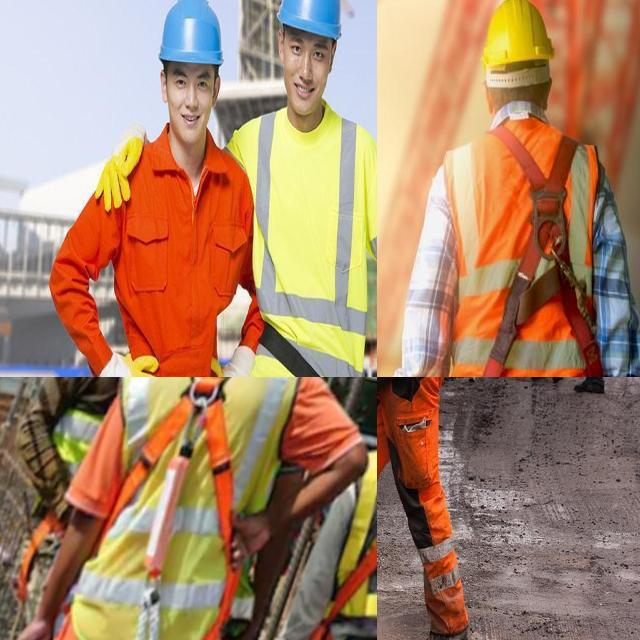Harness: (484, 126, 605, 377), (105, 377, 234, 580)
No_Ear-Protection: (210, 73, 224, 111), (157, 67, 170, 103), (328, 37, 339, 76), (276, 28, 286, 62)
No_Glasses: (288, 30, 329, 76), (169, 66, 213, 98)
face_nomask: (276, 31, 334, 122), (163, 68, 220, 147)
hand_glove: (92, 125, 152, 220), (99, 335, 166, 377), (209, 335, 258, 377)
head_helmet: (159, 0, 226, 65), (276, 0, 344, 38)
person: (50, 0, 250, 377), (236, 0, 377, 377), (377, 377, 470, 640)
shoes: (397, 623, 474, 640), (529, 377, 549, 384), (549, 377, 565, 385)
vest: (235, 116, 377, 377)
